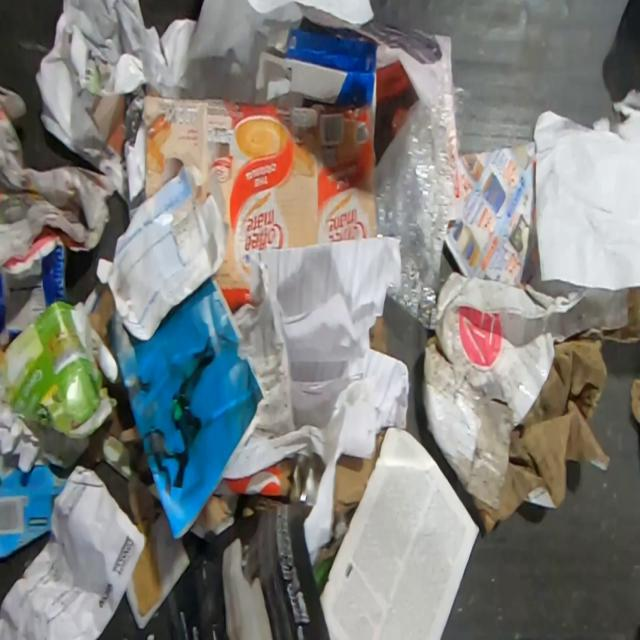cardboard: (421, 270, 640, 536), (124, 86, 378, 315), (0, 286, 120, 473), (0, 244, 69, 352), (0, 453, 68, 559), (128, 474, 163, 618), (334, 429, 386, 519), (225, 458, 294, 518), (195, 494, 232, 532), (370, 316, 389, 356), (630, 377, 640, 424)
soft_plastic: (375, 86, 474, 330)
